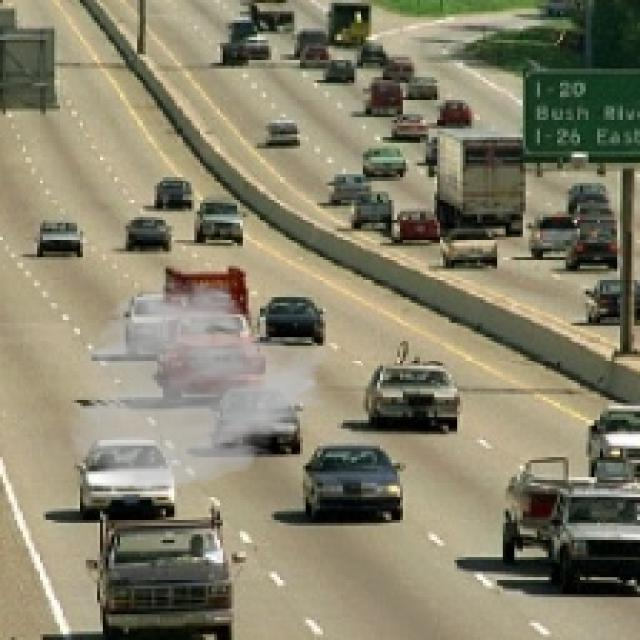Smoke: (62, 277, 338, 494)
